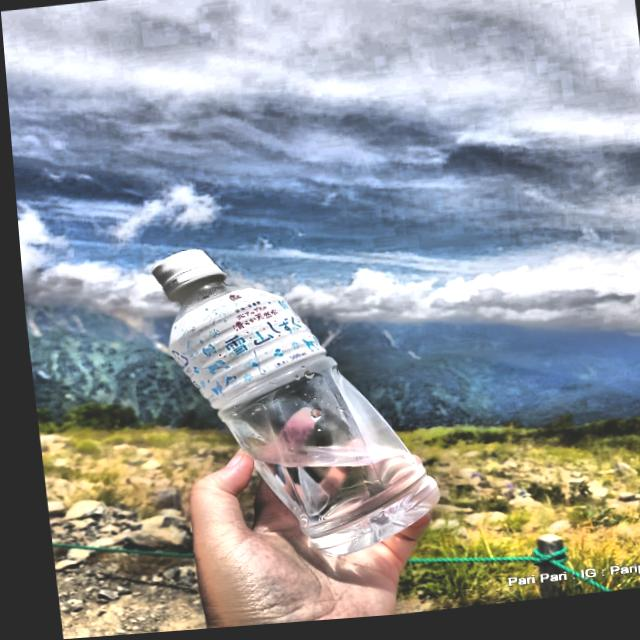Bottles: (121, 221, 472, 576)
